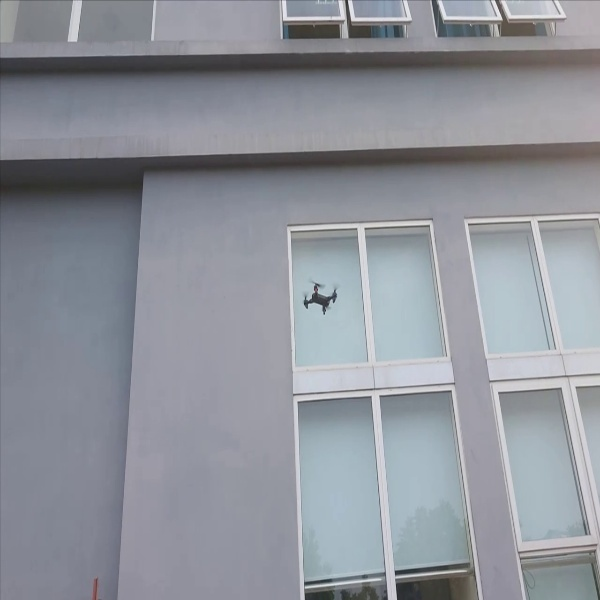drone: (298, 277, 346, 321)
